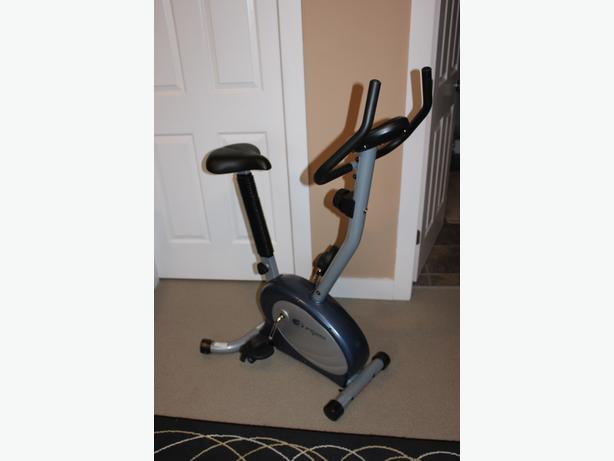gym_bike: (193, 64, 435, 417)
